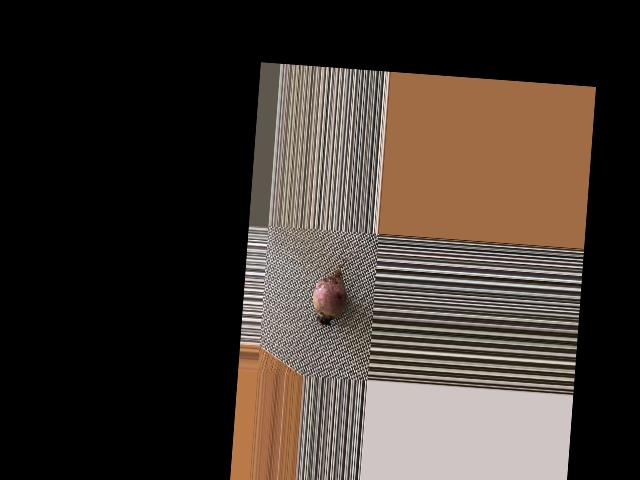beet: (311, 240, 364, 330)
